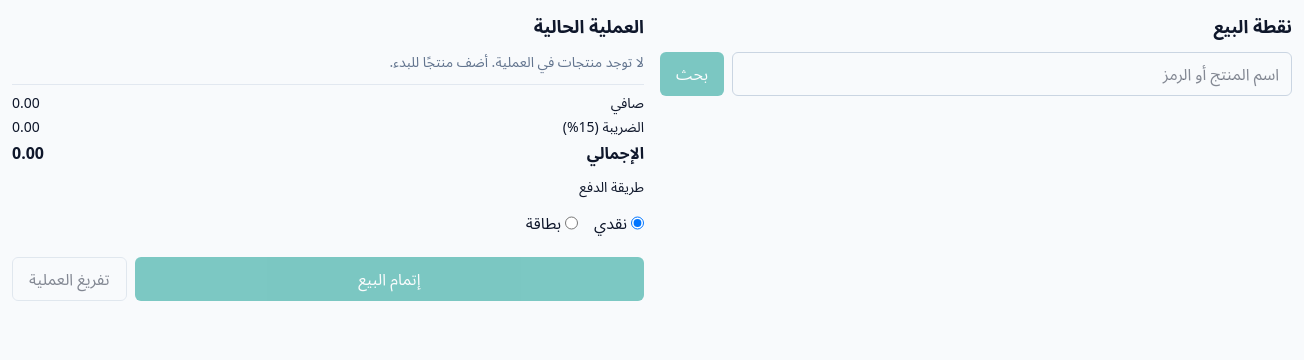
Test: PosPage › merges same product into one line with qty 2
This screenshot has width=1304, height=360.
In the search field named "بحث عن منتج": [1012, 74] box [732, 52, 1292, 96], type "coffee"
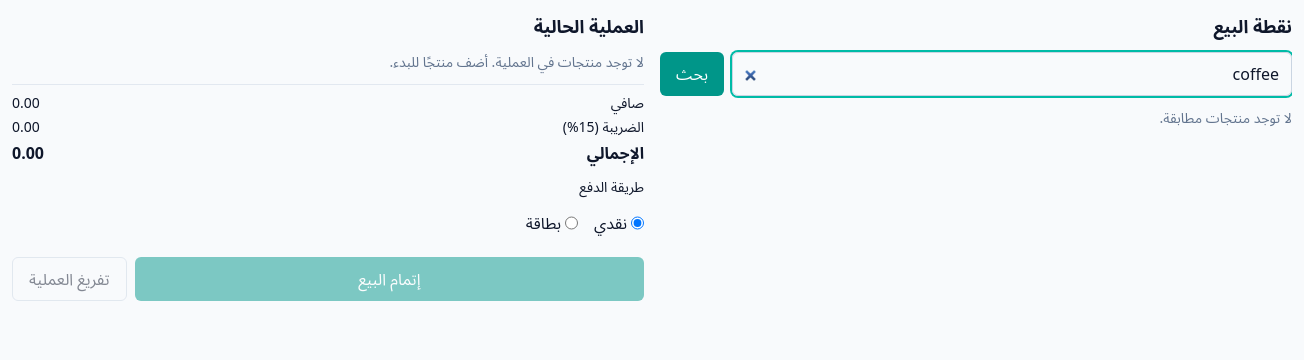
Click the button "بحث": [692, 74] box [660, 52, 724, 96]
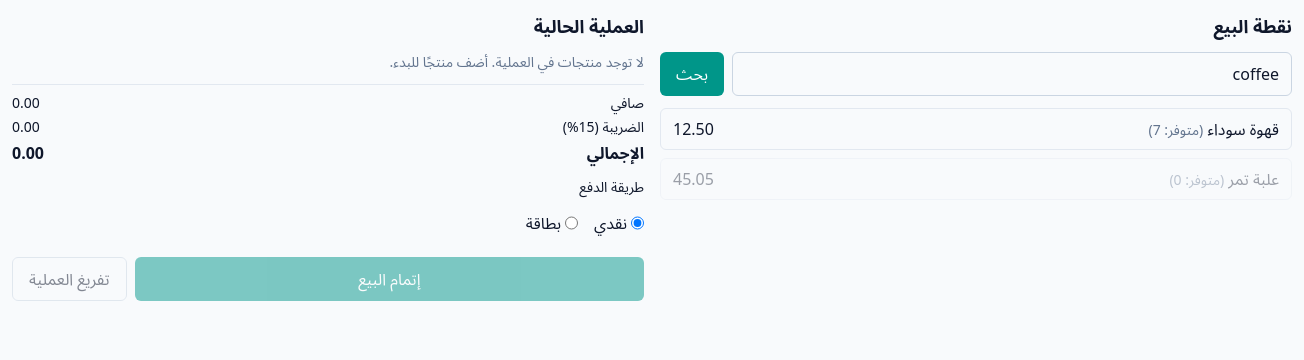
Click the text "قهوة سوداء": [1243, 129] box [1207, 118, 1279, 140]
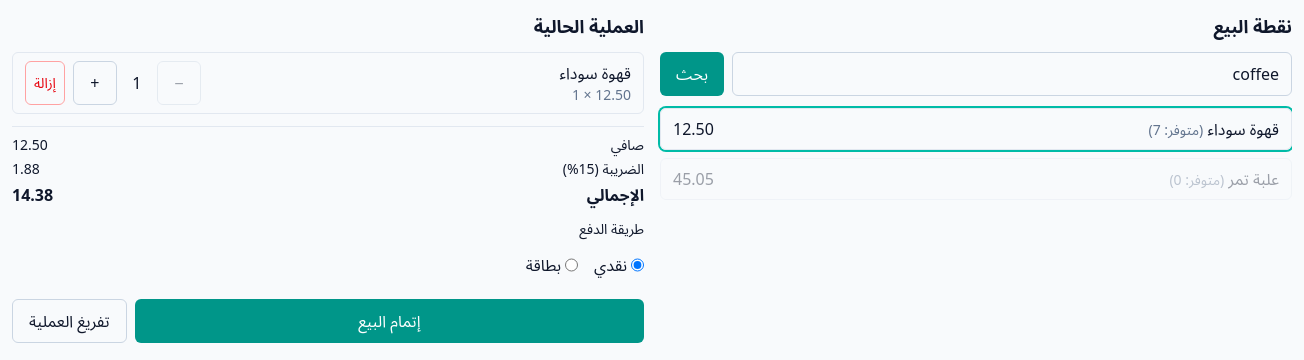
Click the text "قهوة سوداء" below "نقطة البيع": [1243, 129] box [1207, 118, 1279, 140]
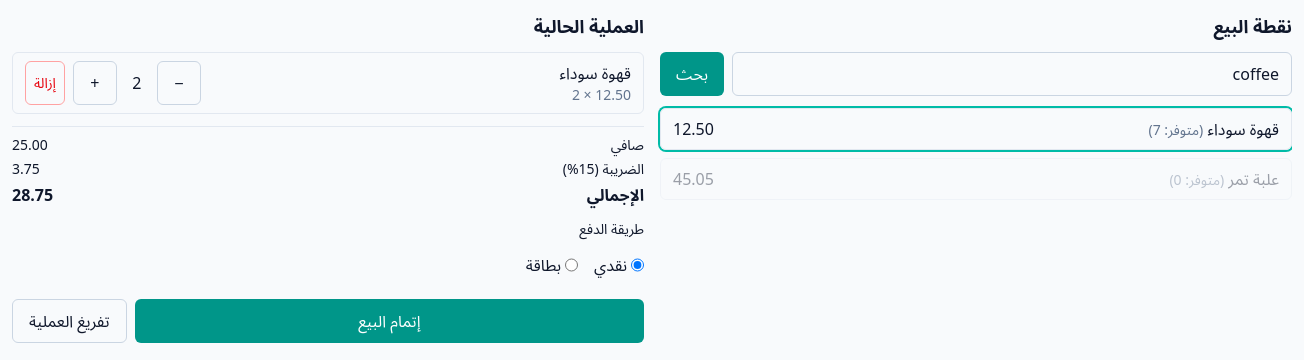
Expected: the text "2" is shown, [132, 72, 142, 94]
